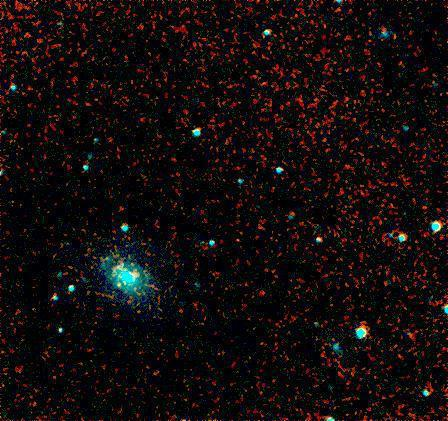star: (104, 270, 134, 300)
